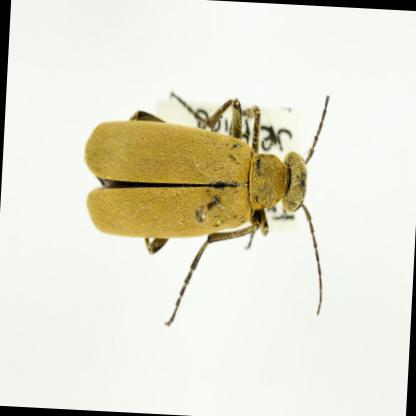blister beetle: (84, 94, 328, 281)
